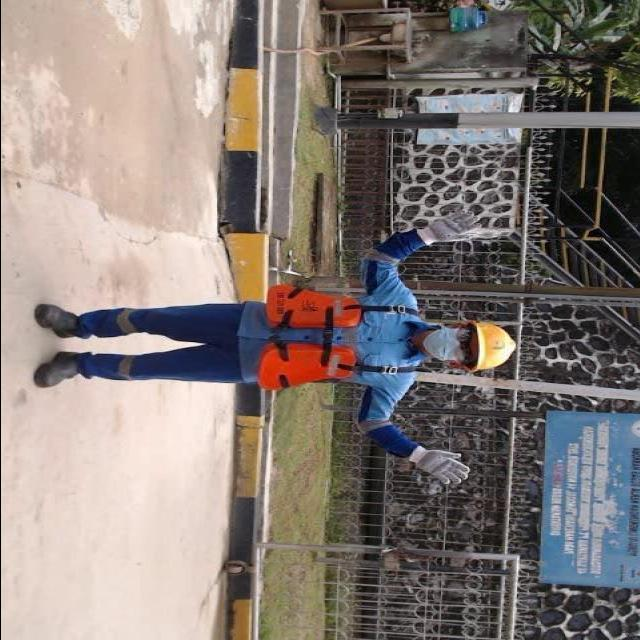helmet: (463, 312, 516, 382)
